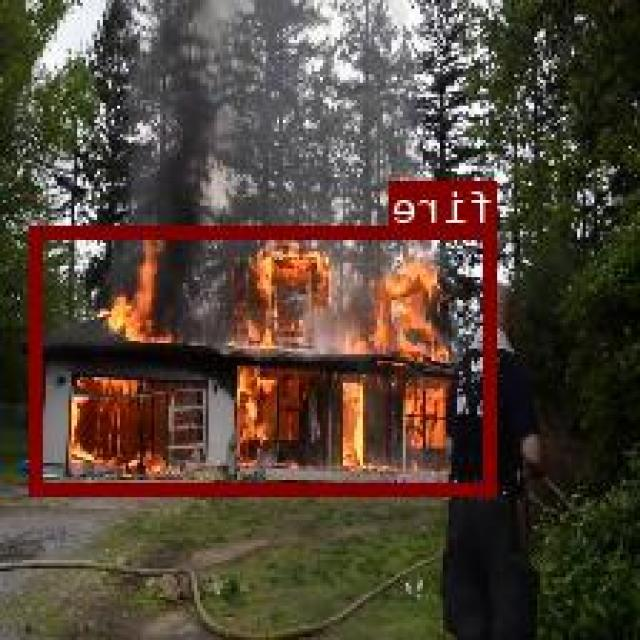fire: (32, 224, 499, 492)
